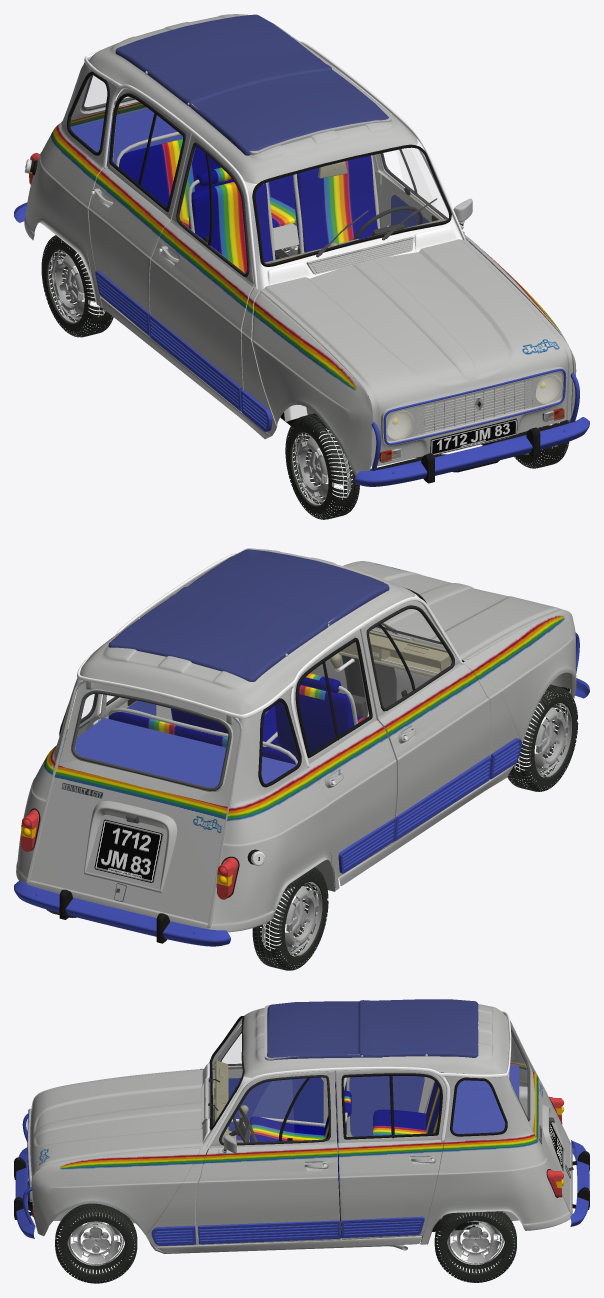
File: renault_4_gtl.glb
3 views of the same model, one above another, from view 1: azimuth 30°, elevation 25°; view 2: azimuth 150°, elevation 25°; view 3: azimuth 270°, elevation 25° (orthographic). The views are drawn at different scales.
Visible parts, largest first — view 1: D, capot_2, Cube_4_2, toit_decoupe, Cube_4_2_capote_0.001, baie, siege_av, Roue avant droite, calandre_01_1, siege_av_1, PARECHOC_01_CH, Subdivision_Surface_3 (+21 smaller); view 2: D, HAYON_BASE_aaa, Cube_4_2, toit_decoupe, HAYON_BASE, Cube_4_2_capote_0.001, capot_2, Cube, Roue arriere droite, Roue avant droite, PARECHOC_01_CH, bump_lat_2 (+15 smaller); view 3: G, capot_2, Cube_4_2, toit_decoupe, Cube_4_2_capote_0.001, Roue avant droite.001, bump_lat_2, Roue arriere droite.001, Plane_1, Plane_2, haut_portes, baie (+17 smaller).
Boxes of the visible parts, bbox=[...] form: D: bbox=[24, 59, 372, 476]; capot_2: bbox=[260, 239, 572, 466]; Cube_4_2: bbox=[115, 14, 332, 105]; toit_decoupe: bbox=[89, 14, 417, 183]; Cube_4_2_capote_0.001: bbox=[189, 58, 388, 155]; baie: bbox=[84, 41, 465, 421]; siege_av: bbox=[293, 155, 380, 253]; Roue avant droite: bbox=[285, 413, 359, 519]; calandre_01_1: bbox=[381, 367, 566, 445]; siege_av_1: bbox=[187, 167, 275, 273]; PARECHOC_01_CH: bbox=[14, 202, 589, 486]; Subdivision_Surface_3: bbox=[119, 138, 296, 227]; D: bbox=[207, 611, 576, 932]; HAYON_BASE_aaa: bbox=[30, 765, 227, 923]; Cube_4_2: bbox=[108, 586, 328, 681]; toit_decoupe: bbox=[80, 548, 415, 714]; HAYON_BASE: bbox=[28, 680, 239, 928]; Cube_4_2_capote_0.001: bbox=[170, 549, 389, 625]; capot_2: bbox=[344, 561, 567, 661]; Cube: bbox=[58, 718, 296, 787]; Roue arriere droite: bbox=[252, 867, 328, 970]; Roue avant droite: bbox=[507, 684, 578, 791]; PARECHOC_01_CH: bbox=[14, 678, 589, 946]; bump_lat_2: bbox=[338, 738, 521, 873]; G: bbox=[31, 1073, 571, 1253]; capot_2: bbox=[30, 1069, 202, 1201]; Cube_4_2: bbox=[358, 999, 478, 1057]; toit_decoupe: bbox=[243, 1004, 509, 1077]; Cube_4_2_capote_0.001: bbox=[267, 1001, 382, 1060]; Roue avant droite.001: bbox=[55, 1203, 137, 1283]; bump_lat_2: bbox=[151, 1216, 424, 1245]; Roue arriere droite.001: bbox=[434, 1211, 516, 1282]; Plane_1: bbox=[212, 1069, 337, 1161]; Plane_2: bbox=[346, 1076, 434, 1136]; haut_portes: bbox=[209, 1025, 446, 1148]; baie: bbox=[201, 1008, 511, 1150].
Bounding box in the file's own units: 0.9169 × 0.9653 × 2.29.
46 materials, 16 textured.
